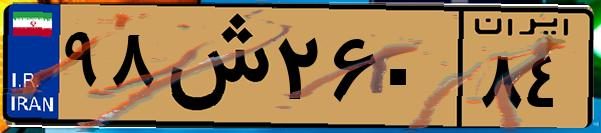0: (385, 28, 445, 110)
2: (270, 28, 330, 110)
4: (525, 38, 570, 115)
6: (330, 28, 385, 110)
8: (475, 38, 525, 113), (110, 28, 158, 98)
9: (57, 26, 110, 100)
ش: (158, 12, 270, 120)
